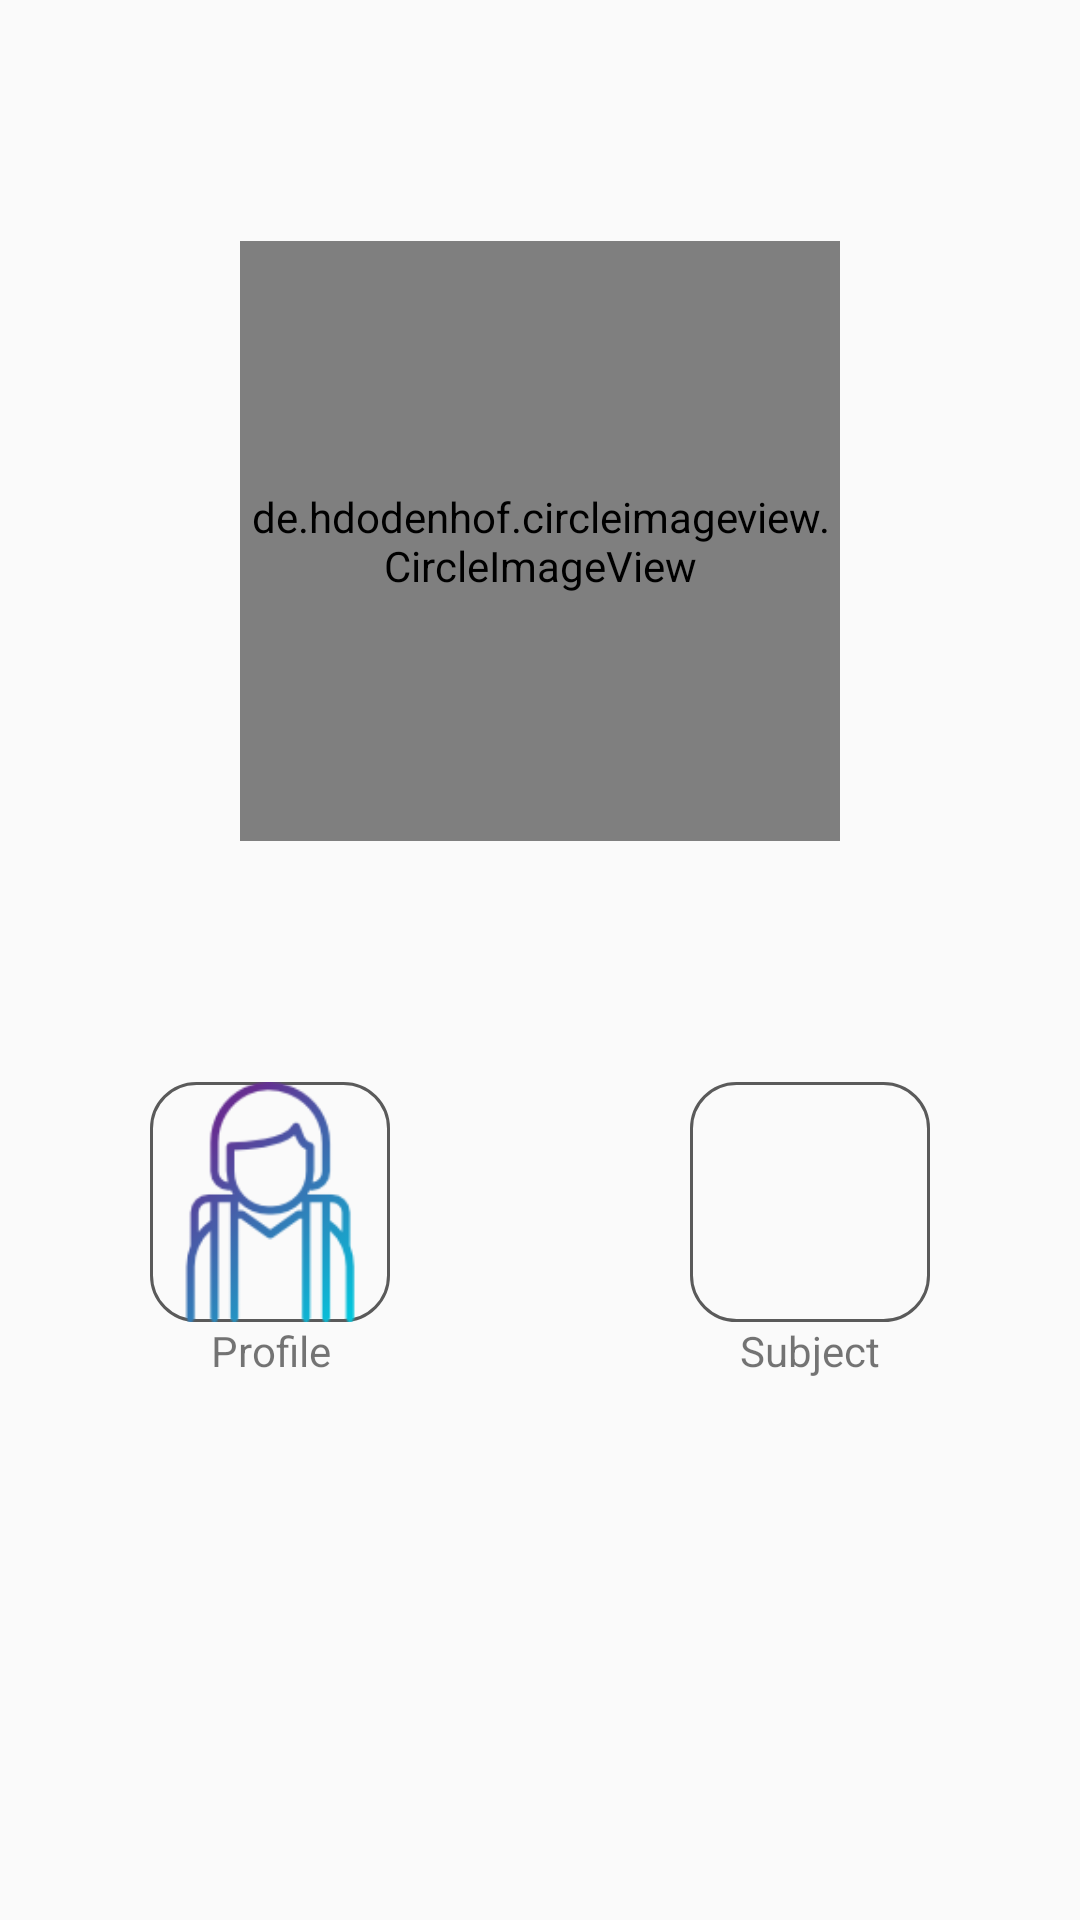

Where to tap for icons on this 1080 × 1920 app screen, as [x,y]:
student: [270,1202]
